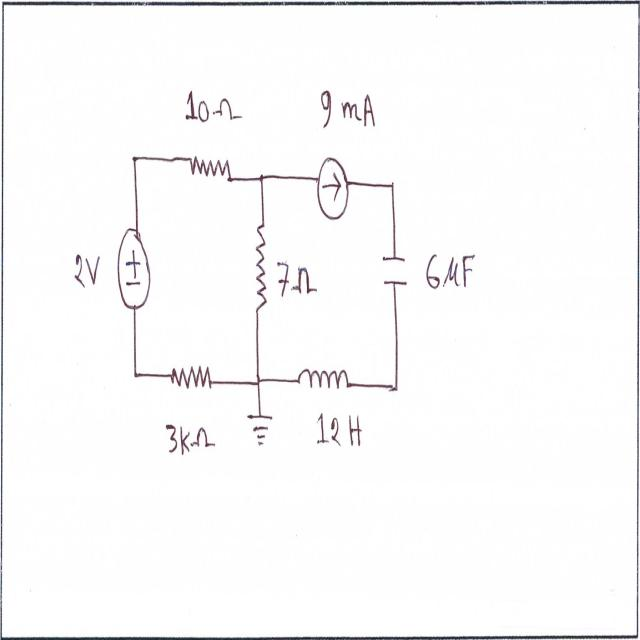capacitor: (380, 247, 410, 294)
current_source: (312, 152, 351, 229)
ground: (246, 408, 274, 454)
inductor: (295, 355, 353, 398)
resistor: (182, 142, 235, 189), (166, 354, 217, 401), (252, 219, 267, 317)
voltage_source: (114, 218, 152, 317)
